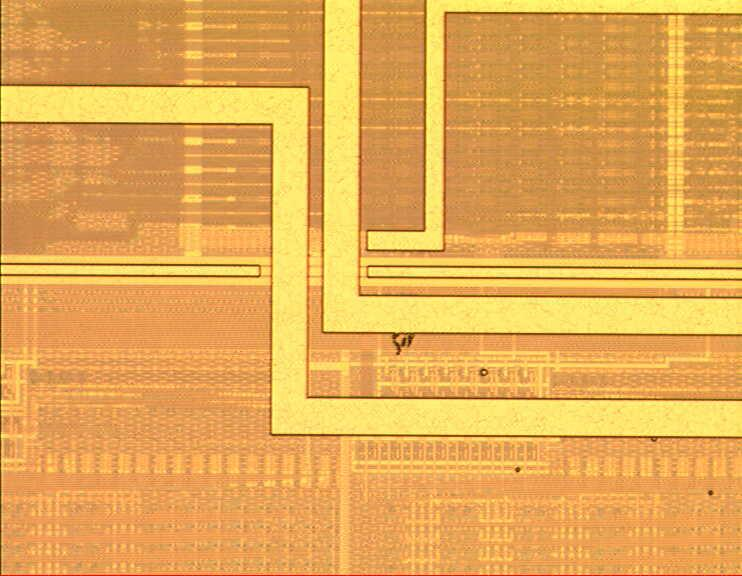BLOCK ETCH: (389, 329, 723, 505)
